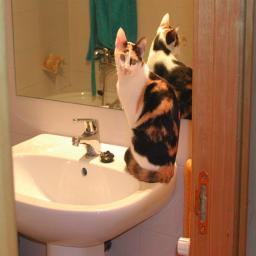catnose: (124, 68, 129, 74)
